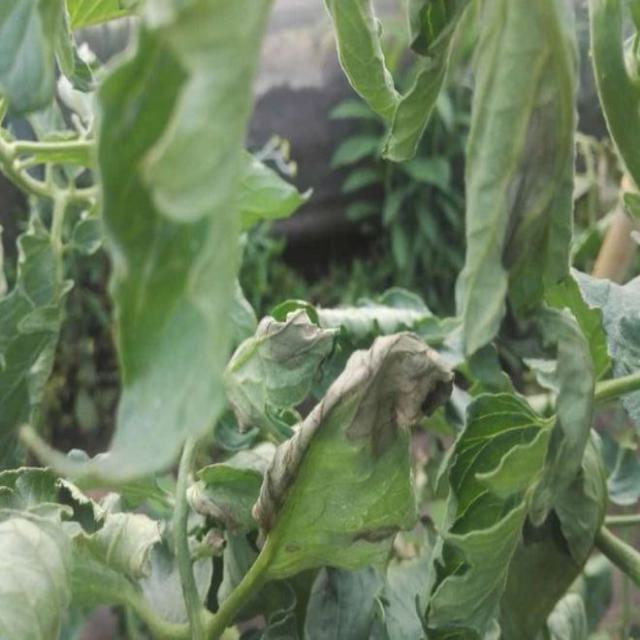Late_blight: (238, 331, 458, 541), (29, 236, 123, 472), (497, 58, 568, 301), (252, 307, 329, 370), (186, 480, 240, 555)
